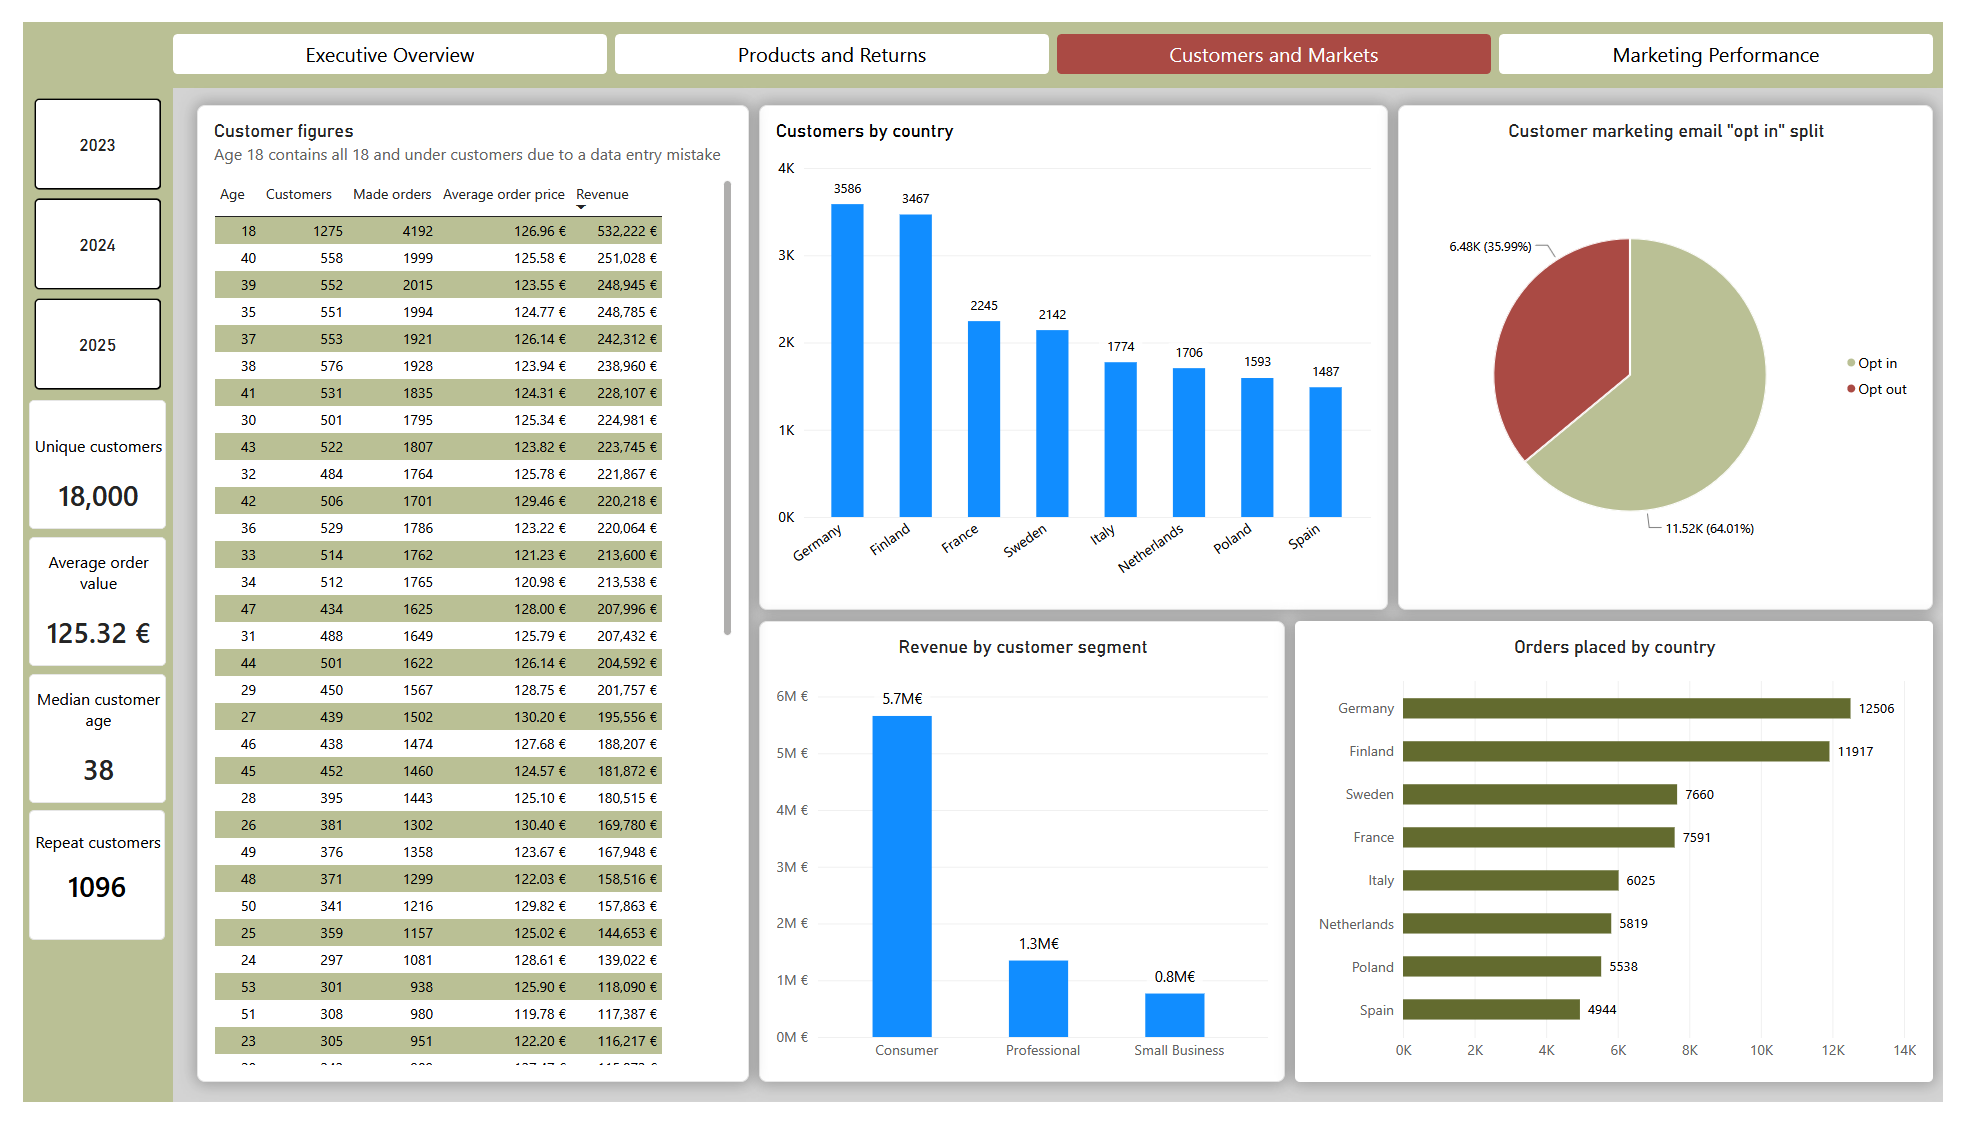

The page's visual inventory and layout, read from the dashboard file:
{"tool":"powerbi","page":{"name":"Customers and Markets","canvas":[1920,1080],"ordinal":2},"visuals":[{"type":"shape","box":[0,0,1920,65.9],"z":0},{"type":"shape","box":[0,0,150.4,1079.8],"z":1000},{"type":"cardVisual","fields":{"Data":["Count(customers.customer_id)","Avg(order_price.order_price)","Median(customers.age)"]},"box":[6.5,377.7,136.4,682.1],"z":2000},{"type":"advancedSlicerVisual","title":"Year Selection","fields":{"Values":["orders.order_date.Variation.Date Hierarchy.Year"]},"box":[6,66,137,312],"z":3000},{"type":"pageNavigator","box":[150.4,12.1,1760.3,39.9],"z":4000},{"type":"lineClusteredColumnComboChart","title":"Customers by country","fields":{"Category":["customers.country"],"Y":["CountNonNull(customers.customer_id)"]},"box":[736.4,83.2,628.2,504.4],"z":5000},{"type":"lineClusteredColumnComboChart","title":"Revenue by customer segment","fields":{"Category":["customers.customer_segment"],"Y":["Sum(order_items.net_revenue)"]},"box":[736.4,599.1,525.2,460.8],"z":6000},{"type":"kpi","title":"Repeat customers","fields":{"Indicator":["CountNonNull(orders.order_date.Variation.Date Hierarchy.Year)"],"TrendLine":["customer_order_amount.orders_made"]},"box":[6.2,788.4,136.3,130],"z":7000},{"type":"tableEx","title":"Customer figures","fields":{"Values":["customers.age","customers.customer_id","orders.order_id","Avg(order_price.order_price)","Sum(order_items.net_revenue)"]},"box":[173.7,83.4,552.6,976.7],"z":8000},{"type":"pieChart","title":"Customer marketing email \"opt in\" split","fields":{"Category":["customers.Email Opt Status"],"Y":["CountNonNull(customers.customer_id)","select"]},"box":[1375,83.2,534.6,504.4],"z":9000},{"type":"barChart","title":"Orders placed by country","fields":{"Category":["customers.country"],"Y":["CountNonNull(orders.order_id)"]},"box":[1272,599.1,637.6,460.8],"z":10000}]}

Visuals, with their boxes in screenshot pixels (x1, y1, x2, y2), scaled from the page's 1920x1080 canvas onto the 1967x1122 screenshot:
shape: locate(0, 0, 1966, 68)
shape: locate(0, 0, 154, 1121)
cardVisual - Count(customers.customer_id) x Avg(order_price.order_price): locate(7, 392, 146, 1101)
"Year Selection" advancedSlicerVisual: locate(6, 69, 147, 393)
pageNavigator: locate(154, 13, 1957, 54)
"Customers by country" lineClusteredColumnComboChart: locate(754, 86, 1398, 610)
"Revenue by customer segment" lineClusteredColumnComboChart: locate(754, 622, 1292, 1101)
"Repeat customers" kpi: locate(6, 819, 146, 954)
"Customer figures" tableEx: locate(178, 87, 744, 1101)
"Customer marketing email "opt in" split" pieChart: locate(1409, 86, 1956, 610)
"Orders placed by country" barChart: locate(1303, 622, 1956, 1101)
